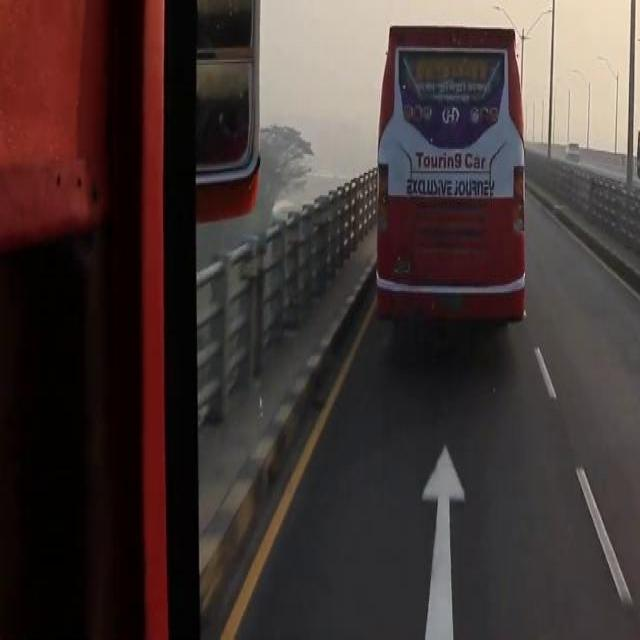vehicle: (377, 24, 526, 325), (565, 141, 581, 160)
